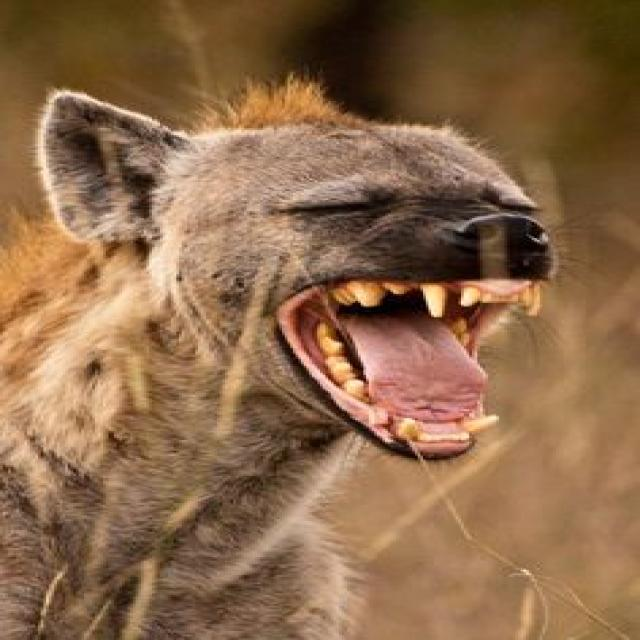Carnivorous: (0, 76, 556, 640)
